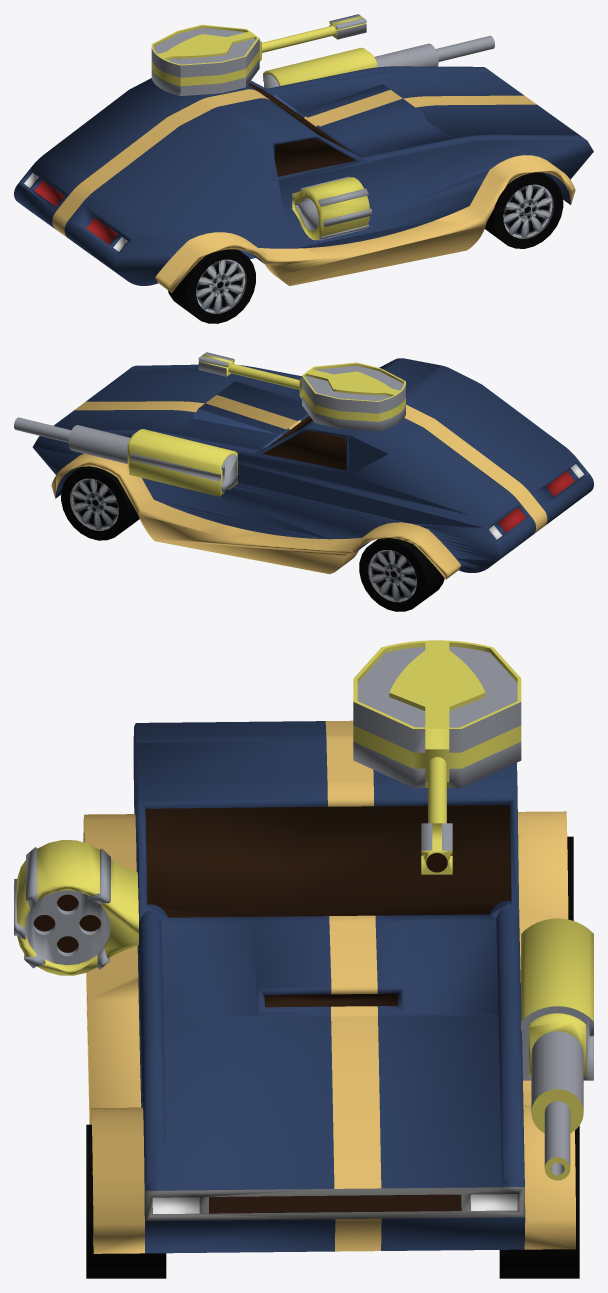
File: Jassey Club.obj
3 views of the same model, one above another, from view 1: azimuth 30°, elevation 25°; view 2: azimuth 150°, elevation 25°; view 3: azimuth 270°, elevation 25° (orthographic). The views are drawn at different scales.
Visible parts, largest first — view 1: Mesh1 Group3 Group2 Group1 Model, Mesh5 skpC673_1 Model, Mesh12 skp5C22_4 Model, Mesh10 skp5C22_3 Model, Mesh3 skp5AB1 Group1 Model, Mesh2 skp13D0_1 Group2 Group1 Model, Mesh4 skpC673_1 Model; view 2: Mesh1 Group3 Group2 Group1 Model, Mesh3 skp5AB1 Group1 Model, Mesh5 skpC673_1 Model, Mesh8 skp5C22_2 Model, Mesh6 skp5C22_1 Model, Mesh4 skpC673_1 Model; view 3: Mesh1 Group3 Group2 Group1 Model, Mesh5 skpC673_1 Model, Mesh3 skp5AB1 Group1 Model, Mesh2 skp13D0_1 Group2 Group1 Model, Mesh10 skp5C22_3 Model, Mesh6 skp5C22_1 Model, Mesh4 skpC673_1 Model.
Boxes of the visible parts, <box> form: Mesh1 Group3 Group2 Group1 Model: <box>14,66,593,292</box>; Mesh5 skpC673_1 Model: <box>151,24,335,95</box>; Mesh12 skp5C22_4 Model: <box>168,249,255,323</box>; Mesh10 skp5C22_3 Model: <box>484,172,563,248</box>; Mesh3 skp5AB1 Group1 Model: <box>263,35,494,88</box>; Mesh2 skp13D0_1 Group2 Group1 Model: <box>292,176,371,240</box>; Mesh4 skpC673_1 Model: <box>329,14,366,39</box>; Mesh1 Group3 Group2 Group1 Model: <box>32,358,593,579</box>; Mesh3 skp5AB1 Group1 Model: <box>14,417,237,496</box>; Mesh5 skpC673_1 Model: <box>228,362,405,431</box>; Mesh8 skp5C22_2 Model: <box>359,538,444,611</box>; Mesh6 skp5C22_1 Model: <box>61,466,139,540</box>; Mesh4 skpC673_1 Model: <box>198,352,234,376</box>; Mesh1 Group3 Group2 Group1 Model: <box>83,720,575,1253</box>; Mesh5 skpC673_1 Model: <box>353,640,521,823</box>; Mesh3 skp5AB1 Group1 Model: <box>521,918,593,1180</box>; Mesh2 skp13D0_1 Group2 Group1 Model: <box>14,840,138,975</box>; Mesh10 skp5C22_3 Model: <box>86,1124,166,1278</box>; Mesh6 skp5C22_1 Model: <box>499,1126,579,1278</box>; Mesh4 skpC673_1 Model: <box>421,823,452,874</box>.
Bounding box in the file's own units: 2.53 × 0.9509 × 1.35.
